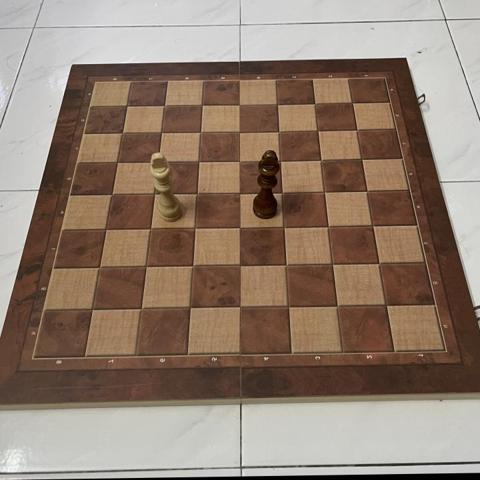xcorner: (358, 182, 376, 200), (269, 96, 286, 114), (193, 124, 210, 142), (231, 153, 249, 170), (104, 186, 121, 204), (231, 184, 248, 202), (275, 218, 293, 235), (320, 217, 337, 235), (231, 256, 248, 274), (133, 299, 150, 317), (279, 297, 297, 314), (119, 99, 136, 116), (157, 98, 174, 115), (194, 98, 211, 115), (232, 97, 249, 114), (307, 96, 324, 113), (344, 95, 361, 112), (115, 126, 132, 143), (154, 125, 171, 142), (232, 124, 249, 141), (271, 123, 288, 140), (310, 123, 327, 140), (349, 122, 366, 139), (110, 155, 127, 172), (150, 154, 167, 171), (191, 154, 208, 171), (272, 152, 289, 169), (313, 152, 330, 169), (353, 151, 370, 168), (147, 186, 164, 203), (189, 185, 206, 202), (274, 184, 291, 201), (316, 183, 333, 200), (98, 221, 115, 238), (143, 220, 160, 237), (187, 220, 204, 237), (231, 219, 248, 236), (364, 217, 381, 234), (92, 259, 109, 276), (138, 258, 155, 275), (185, 257, 202, 274), (277, 256, 294, 273), (324, 255, 341, 272), (370, 254, 387, 271), (85, 300, 102, 317), (182, 299, 199, 316), (231, 298, 248, 315), (328, 296, 345, 313), (377, 296, 394, 313)
